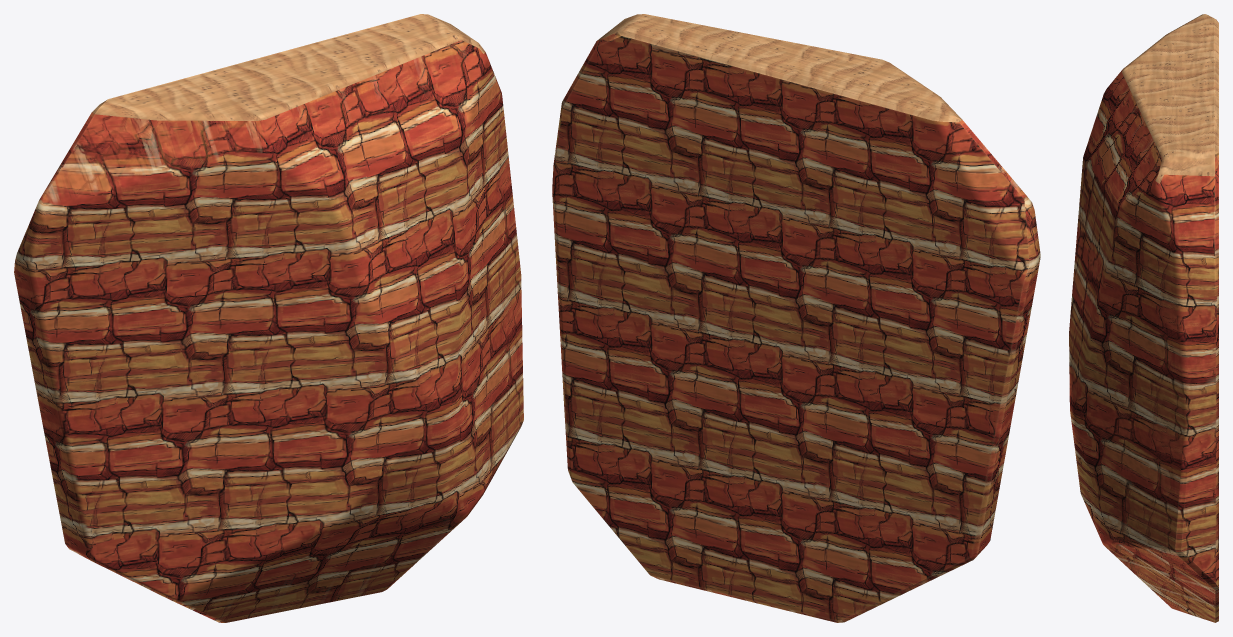
Rendered from v4_cliff_w_01.glb.
The picture shows the model from 3 angles, left to right: view 1: azimuth 30°, elevation 25°; view 2: azimuth 150°, elevation 25°; view 3: azimuth 270°, elevation 25°; orthographic projection. The views are drawn at different scales.
Parts seen in each view (by area): view 1: v4_cliff_w_01; view 2: v4_cliff_w_01; view 3: v4_cliff_w_01.
Part boxes in pixels (x1,y1,x2,y2): v4_cliff_w_01: (14,14,523,622); v4_cliff_w_01: (552,14,1040,622); v4_cliff_w_01: (1069,14,1218,622).
Size of the model in its own units: 7.46 by 7.9 by 2.2.
Materials: 1 (1 with a texture image).
